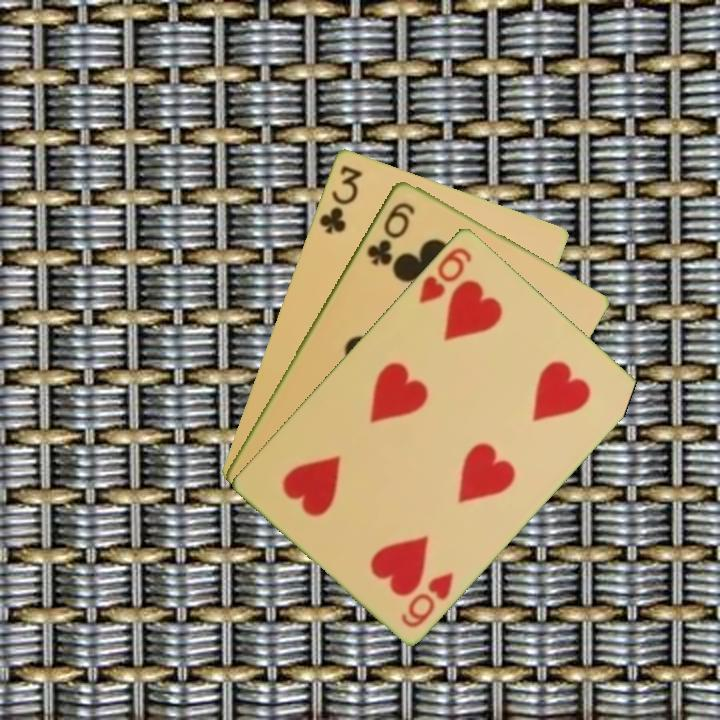3c: (315, 161, 365, 236)
6c: (363, 198, 418, 269)
6h: (397, 567, 457, 631), (415, 243, 475, 306)
